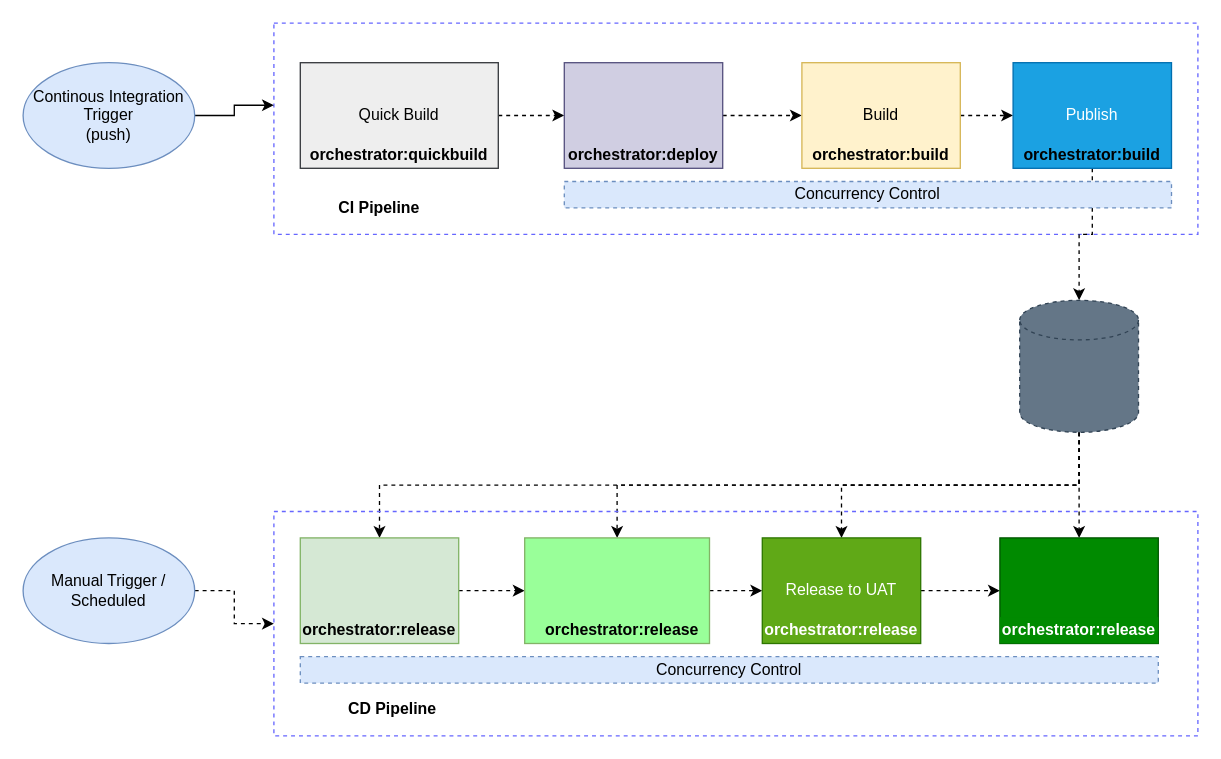
The diagram is 1221 pixels wide and 759 high, and some of its shapes have lost their labels. Each missing label, with the box of its shape:
Artifact Repository: (1018, 299, 1138, 432)
Deploy to DEV environment: (563, 61, 723, 168)
Release to Prod: (999, 537, 1158, 644)
Release to SIT: (523, 537, 710, 644)
Release to System Testing environment: (299, 537, 459, 644)
